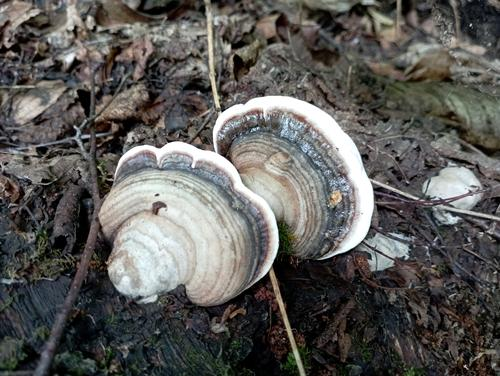Ganoderma - Fruit Body: (98, 94, 378, 306)
